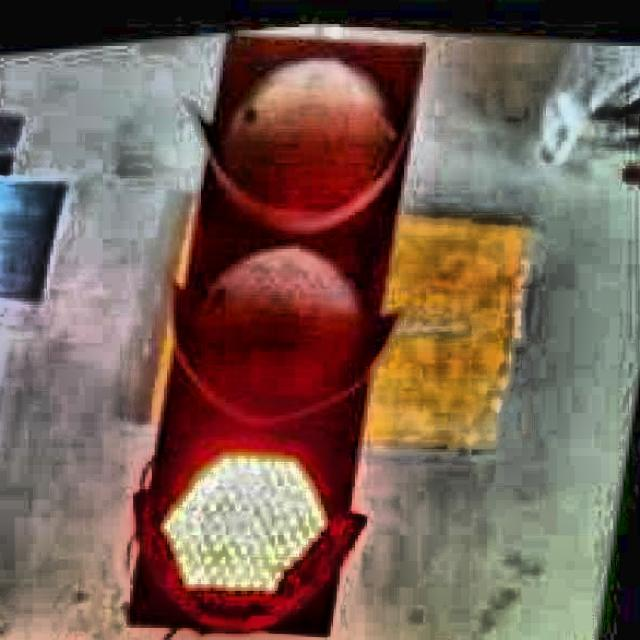red: (113, 24, 420, 640)
